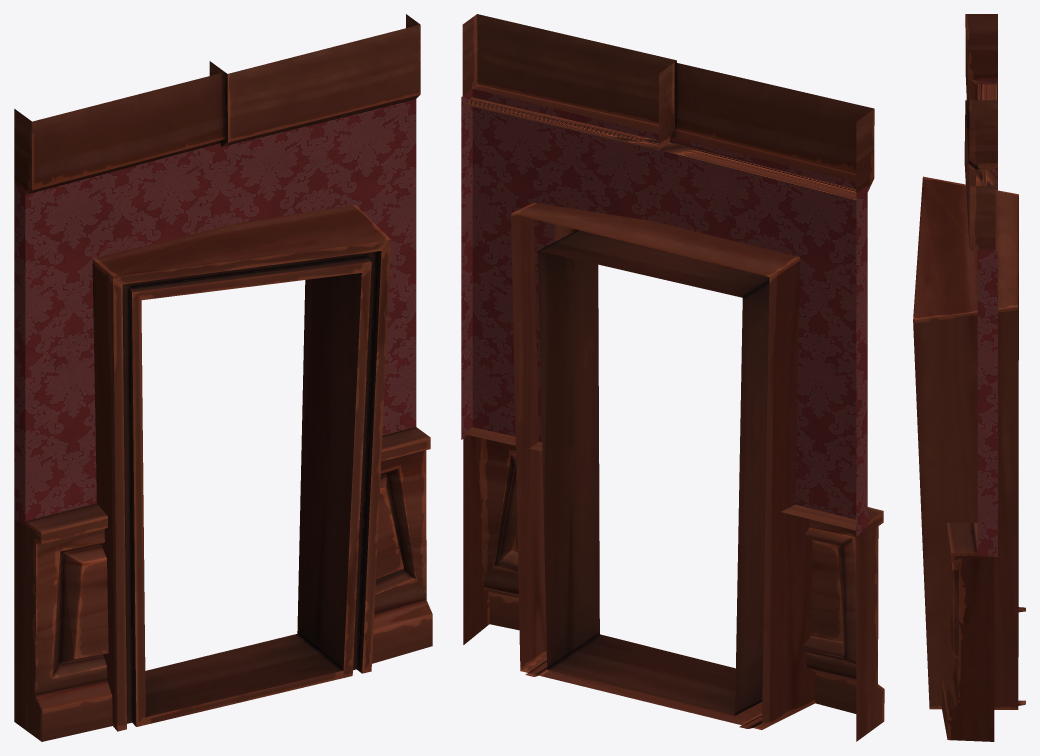
Rendered from Wall_Doorframe.FBX.
3 renders of one model, left to right at view 1: azimuth 30°, elevation 25°; view 2: azimuth 150°, elevation 25°; view 3: azimuth 270°, elevation 25°, orthographic. The views are drawn at different scales.
Parts seen in each view (by area): view 1: architecture (×5); view 2: architecture (×5); view 3: architecture (×4).
Part boxes in pixels (x1,y1,x2,y2): architecture (×5): [14, 14, 432, 741]; architecture (×5): [461, 14, 884, 741]; architecture (×4): [913, 14, 1025, 741].
Bounding box in the file's own units: 200 × 301 × 55.35.
